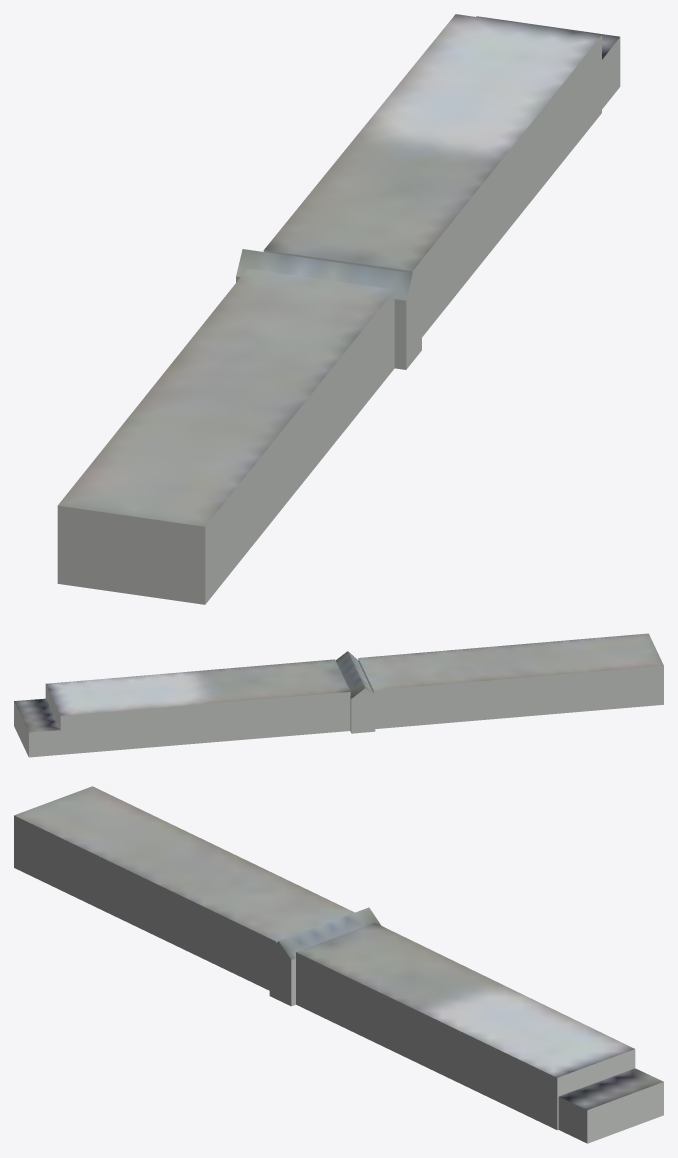
The model's file is LSMP_2_1.glb.
3 views of the same model, one above another, from view 1: azimuth 30°, elevation 25°; view 2: azimuth 150°, elevation 25°; view 3: azimuth 270°, elevation 25° (orthographic). The views are drawn at different scales.
Visible parts, largest first — view 1: building_d06ee0ff27160a78, building_83762b94f2a4d911; view 2: building_83762b94f2a4d911, building_d06ee0ff27160a78; view 3: building_d06ee0ff27160a78, building_83762b94f2a4d911.
Boxes of the visible parts, left/top/right/bottom form: building_d06ee0ff27160a78: left=57, top=14, right=620, bottom=527; building_83762b94f2a4d911: left=57, top=37, right=620, bottom=604; building_83762b94f2a4d911: left=14, top=659, right=663, bottom=757; building_d06ee0ff27160a78: left=14, top=633, right=663, bottom=733; building_d06ee0ff27160a78: left=14, top=786, right=663, bottom=1110; building_83762b94f2a4d911: left=14, top=816, right=663, bottom=1143.
Size of what is drawn, in the model's own units: 134 by 12.19 by 121.
Materials: 2 (1 with a texture image).
